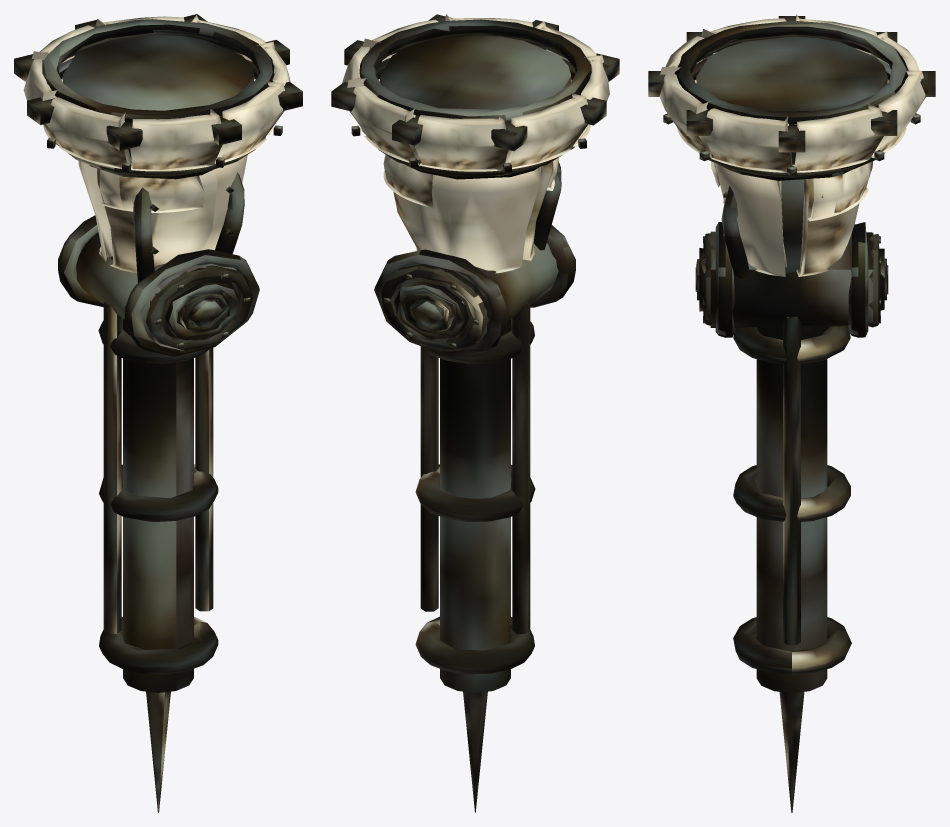
The model's file is arm-needle-icon-v1.glb.
The picture shows the model from 3 angles, left to right: view 1: azimuth 30°, elevation 25°; view 2: azimuth 150°, elevation 25°; view 3: azimuth 270°, elevation 25°; orthographic projection.
Visible parts, largest first — view 1: arm-needle-icon-v1-steel, arm-needle-icon-v1-brass, arm-needle-icon-v1-ceramic; view 2: arm-needle-icon-v1-steel, arm-needle-icon-v1-brass, arm-needle-icon-v1-ceramic; view 3: arm-needle-icon-v1-steel, arm-needle-icon-v1-ceramic, arm-needle-icon-v1-brass.
Boxes of the visible parts, x1,y1,x2,y2 form: arm-needle-icon-v1-steel: (42, 19, 282, 692); arm-needle-icon-v1-brass: (14, 14, 302, 812); arm-needle-icon-v1-ceramic: (23, 15, 290, 272); arm-needle-icon-v1-steel: (351, 19, 591, 692); arm-needle-icon-v1-brass: (331, 14, 619, 812); arm-needle-icon-v1-ceramic: (342, 14, 609, 273); arm-needle-icon-v1-steel: (663, 20, 920, 692); arm-needle-icon-v1-ceramic: (659, 14, 925, 276); arm-needle-icon-v1-brass: (648, 16, 935, 812).
Size of the model in its own units: 0.4472 by 1.27 by 0.4453.
1 material, 1 textured.
